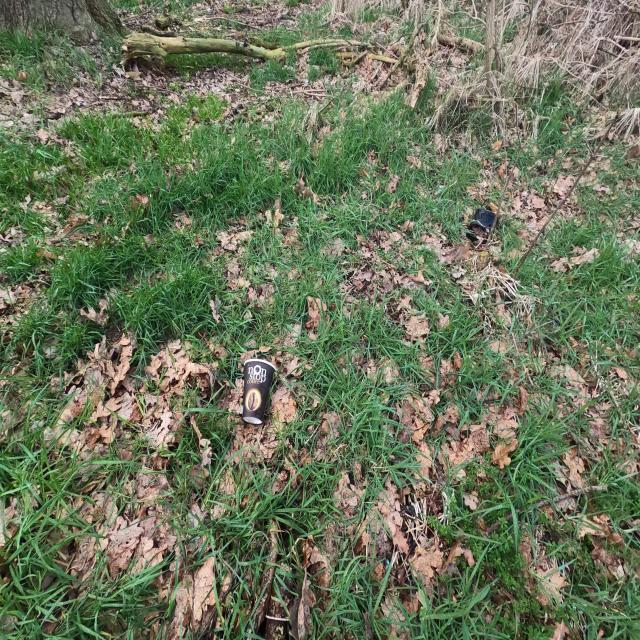Cup: (240, 354, 278, 426)
